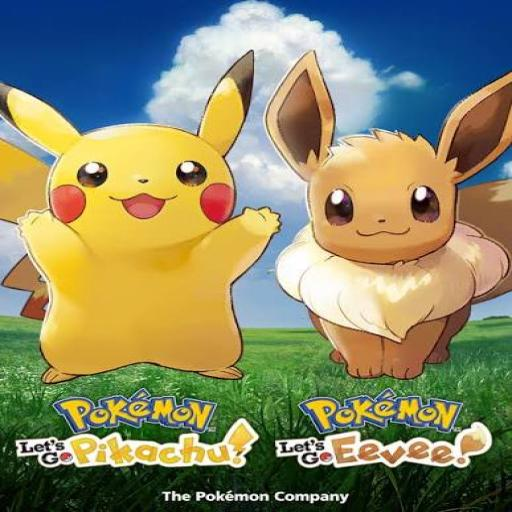Pikachu: (0, 50, 283, 384)
